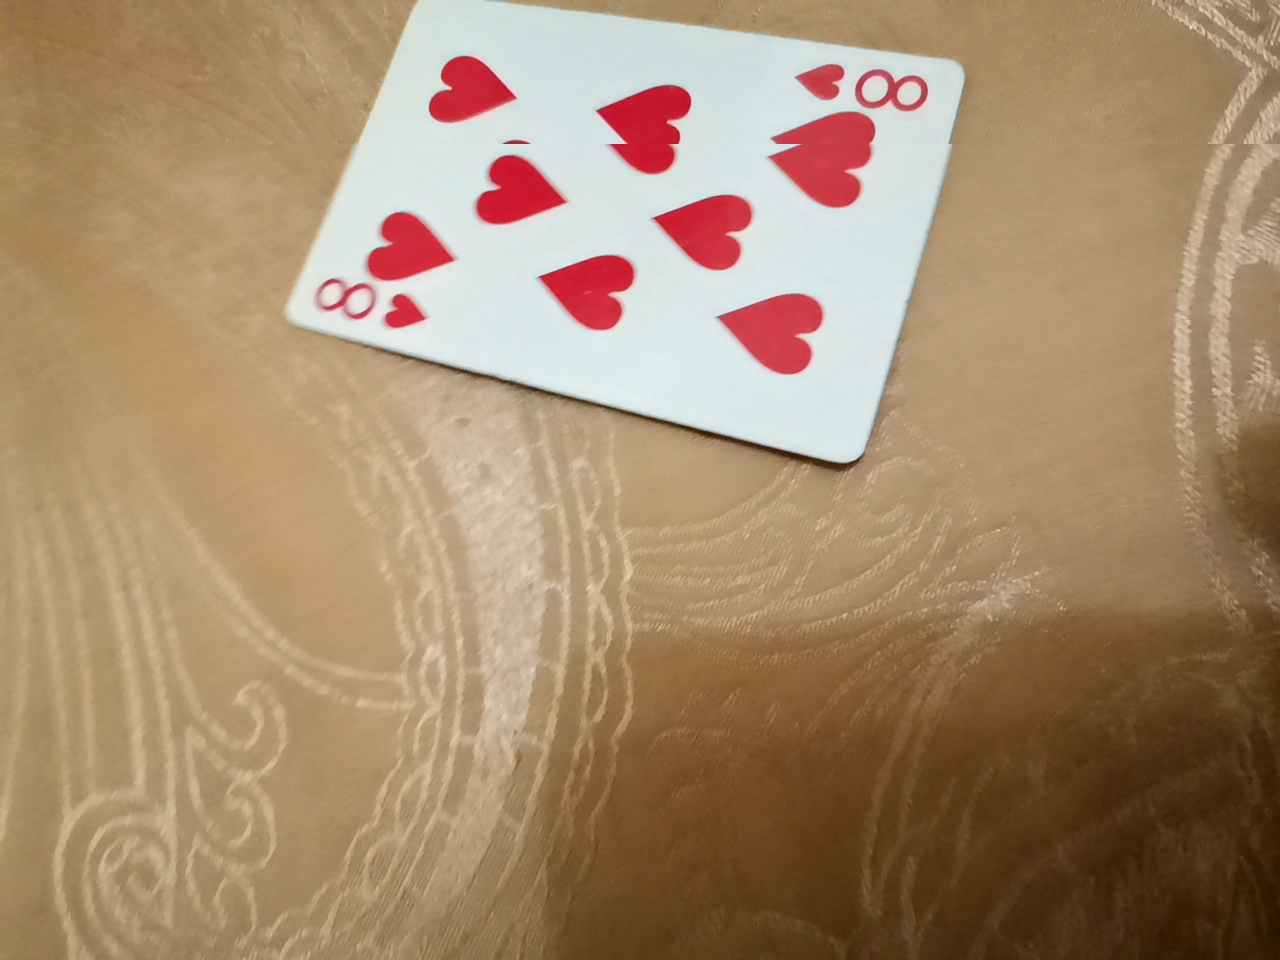hx 8: (303, 19, 943, 457)
